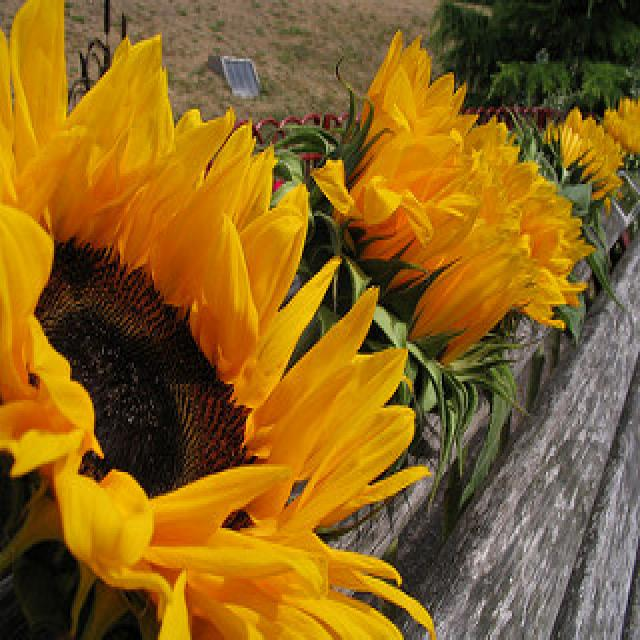sunflower: (3, 8, 413, 640), (332, 119, 520, 382), (543, 121, 621, 207)
